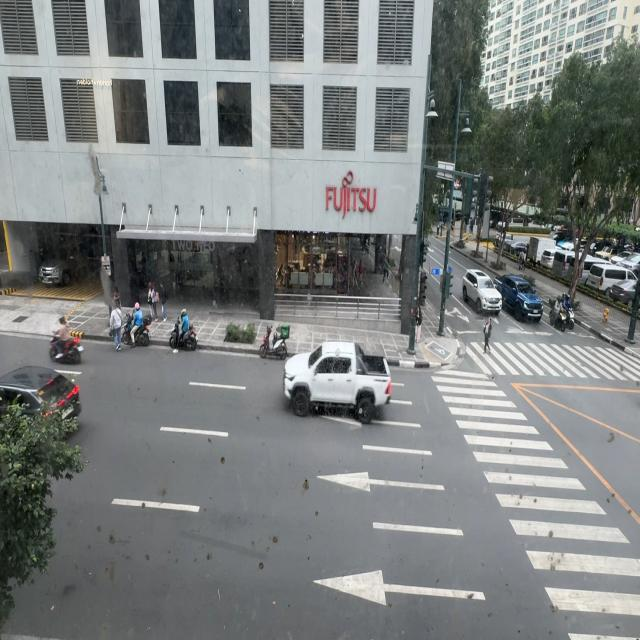crossing: (484, 316, 492, 353)
jaywalking: (110, 302, 123, 350)
pedestrain: (112, 288, 122, 324), (148, 282, 156, 322), (160, 284, 168, 323), (518, 250, 526, 271)
waiting: (415, 304, 423, 344)
